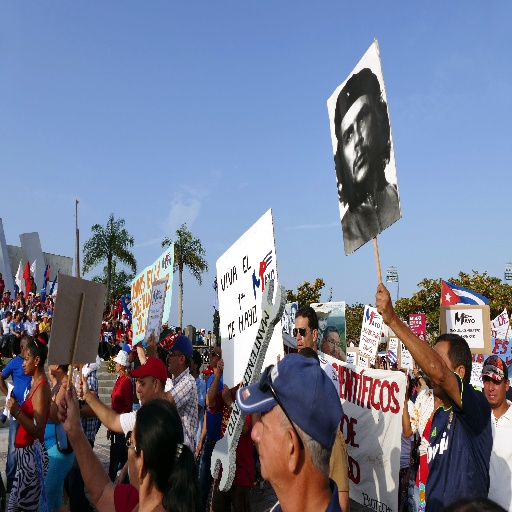hand: (374, 280, 405, 335), (56, 378, 81, 434), (76, 373, 89, 400), (6, 394, 19, 419), (144, 330, 156, 356), (221, 381, 231, 403), (195, 438, 202, 459), (217, 356, 224, 375), (116, 472, 126, 484), (104, 427, 111, 442), (412, 364, 420, 376), (403, 370, 407, 393), (373, 348, 379, 360), (408, 454, 414, 465), (274, 352, 280, 362), (378, 360, 384, 369), (129, 320, 134, 330), (111, 341, 116, 350), (237, 379, 242, 388), (288, 310, 292, 321), (119, 336, 126, 342), (396, 356, 399, 370), (14, 330, 19, 338), (383, 356, 389, 362), (97, 337, 102, 344), (2, 398, 5, 409), (109, 303, 114, 309), (45, 319, 49, 326), (46, 327, 49, 336)
